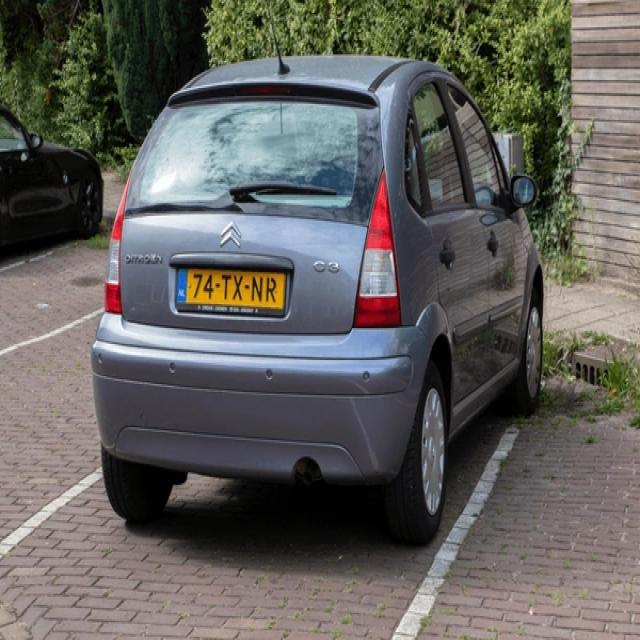citroen: (218, 216, 246, 251)
